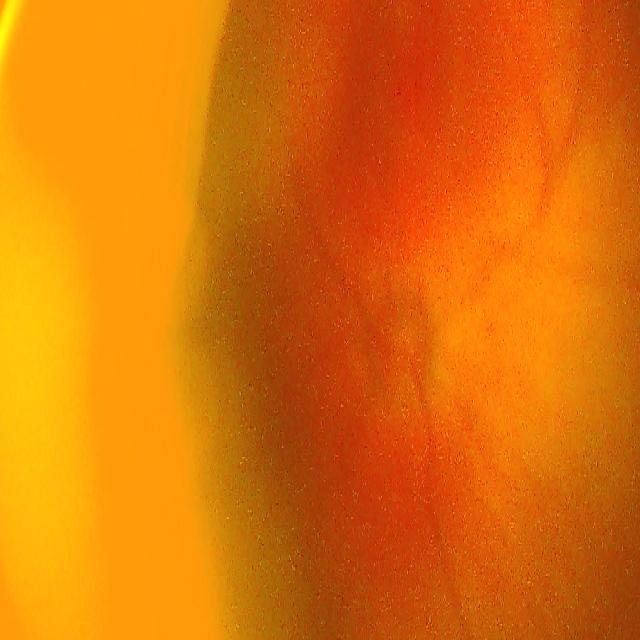optic-nerve: (364, 270, 446, 422)
